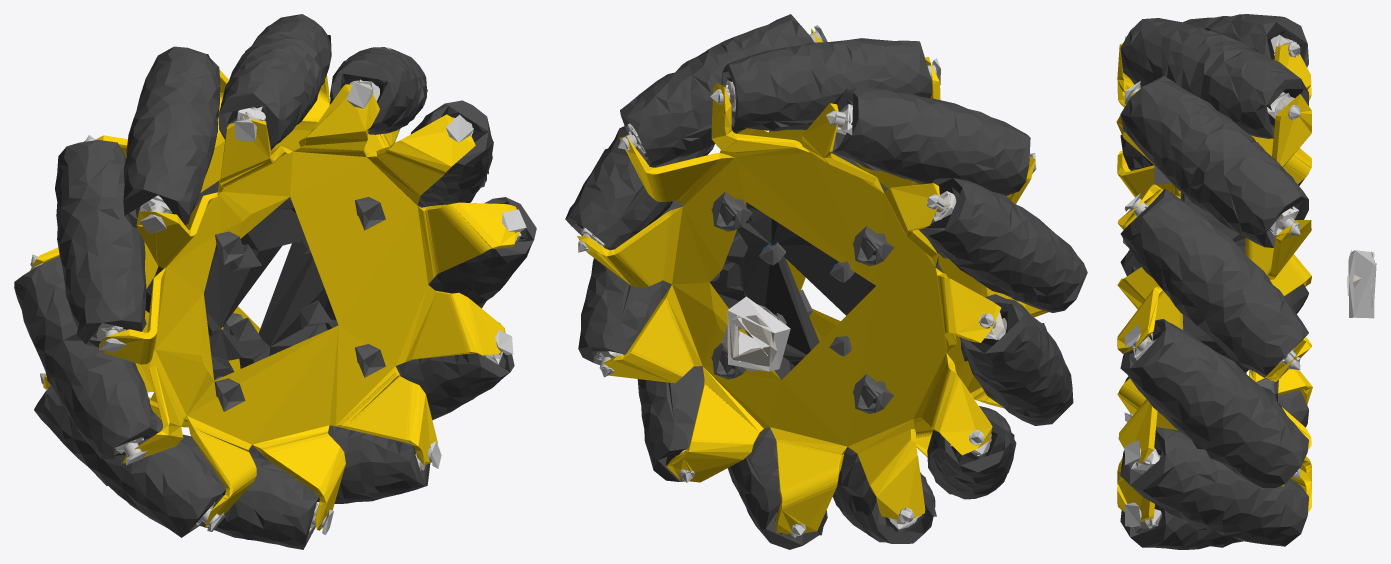
The model's file is wheelBR.glb.
The picture shows the model from 3 angles, left to right: view 1: azimuth 30°, elevation 25°; view 2: azimuth 150°, elevation 25°; view 3: azimuth 270°, elevation 25°; orthographic projection.
Parts seen in each view (by area): view 1: wheelBR_3, wheelBR_0, wheelBR_4, wheelBR_1, wheelBR_6, wheelBR_2, wheelBR_5; view 2: wheelBR_0, wheelBR_3, wheelBR_4, wheelBR_1, wheelBR_2, wheelBR_6, wheelBR_5; view 3: wheelBR_0, wheelBR_3, wheelBR_2, wheelBR_6, wheelBR_4, wheelBR_5, wheelBR_1.
Boxes of the visible parts, x1,y1,x2,y2 form: wheelBR_3: (30,69,519,530); wheelBR_0: (14,14,536,549); wheelBR_4: (92,75,527,524); wheelBR_1: (214,197,385,411); wheelBR_6: (30,82,526,534); wheelBR_2: (96,80,521,530); wheelBR_5: (96,79,516,532); wheelBR_0: (565,14,1087,549); wheelBR_3: (577,28,1048,534); wheelBR_4: (576,77,1013,537); wheelBR_1: (711,191,893,413); wheelBR_2: (581,80,1005,537); wheelBR_6: (578,25,1036,535); wheelBR_5: (580,81,1006,524); wheelBR_0: (1120,14,1308,549); wheelBR_3: (1116,43,1312,520); wheelBR_2: (1131,34,1376,528); wheelBR_6: (1124,36,1300,526); wheelBR_4: (1129,30,1294,533); wheelBR_5: (1133,36,1374,528); wheelBR_1: (1154,165,1278,402).
Size of the model in its own units: 4.09 by 4.09 by 1.99.
